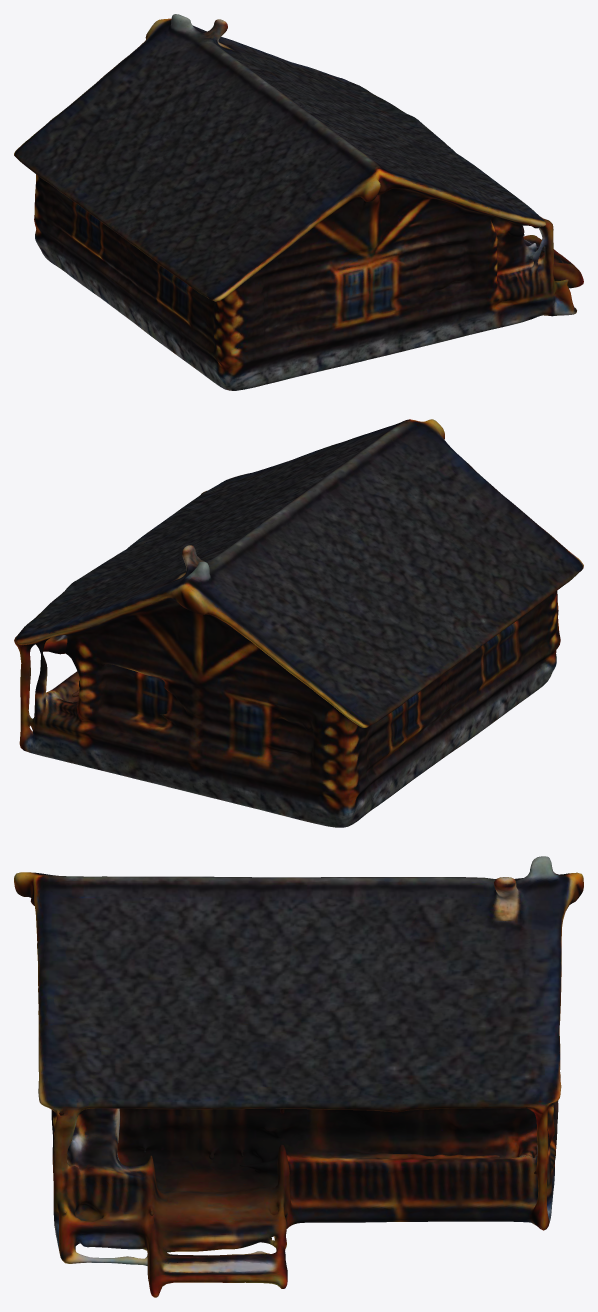
File: e3815090f666_Luxury_cabin.fbx
The picture shows the model from 3 angles, top to bottom: view 1: azimuth 30°, elevation 25°; view 2: azimuth 150°, elevation 25°; view 3: azimuth 270°, elevation 25°; orthographic projection. The views are drawn at different scales.
Visible parts, largest first — view 1: high_poly; view 2: high_poly; view 3: high_poly.
Part boxes in pixels (x1,y1,x2,y2): high_poly: [14, 14, 583, 390]; high_poly: [14, 419, 583, 827]; high_poly: [14, 856, 583, 1297].
Size of the model in its own units: 100 by 51.25 by 93.2.
